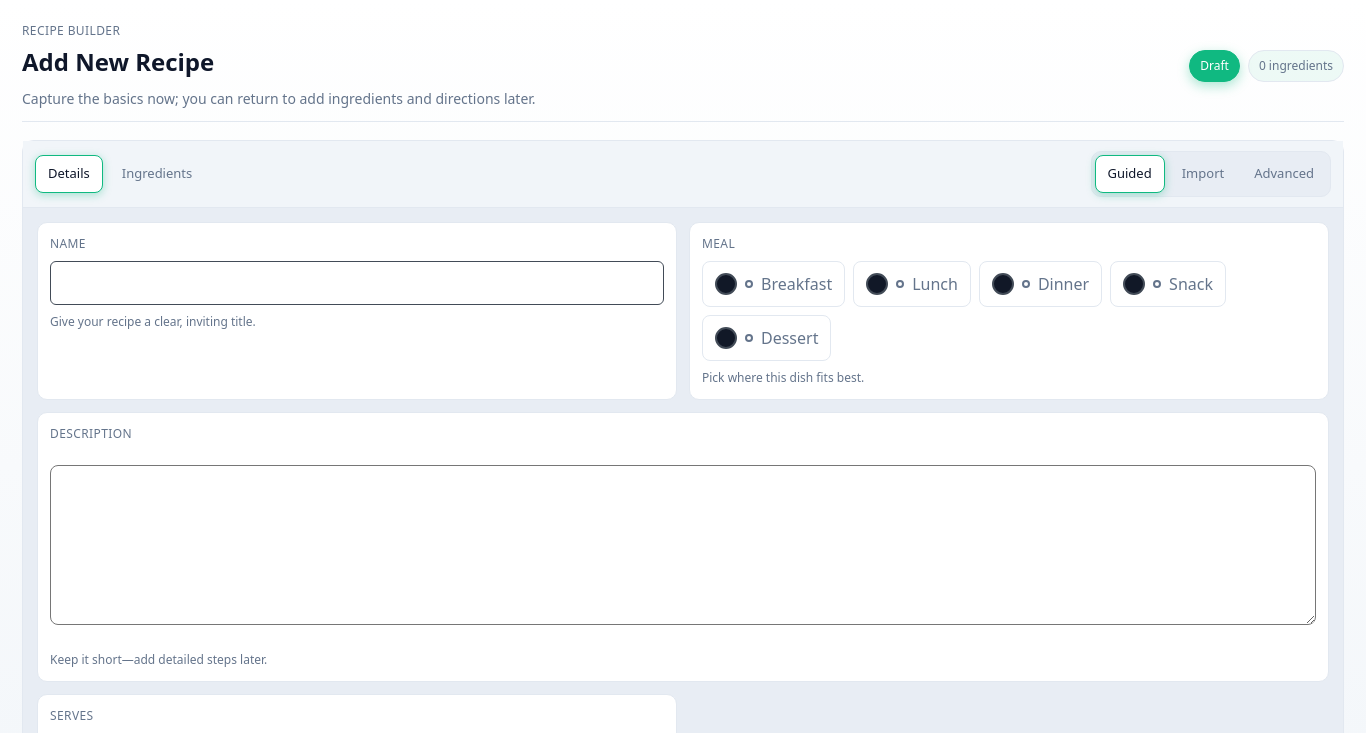
Test: Store Page - Recipe Creation › Ingredient Autocomplete › shows dropdown suggestions when clicking on ingredient name input
Click the button with aria-label "ingredients tab".
click(157, 173)  # box [122,164,192,182]
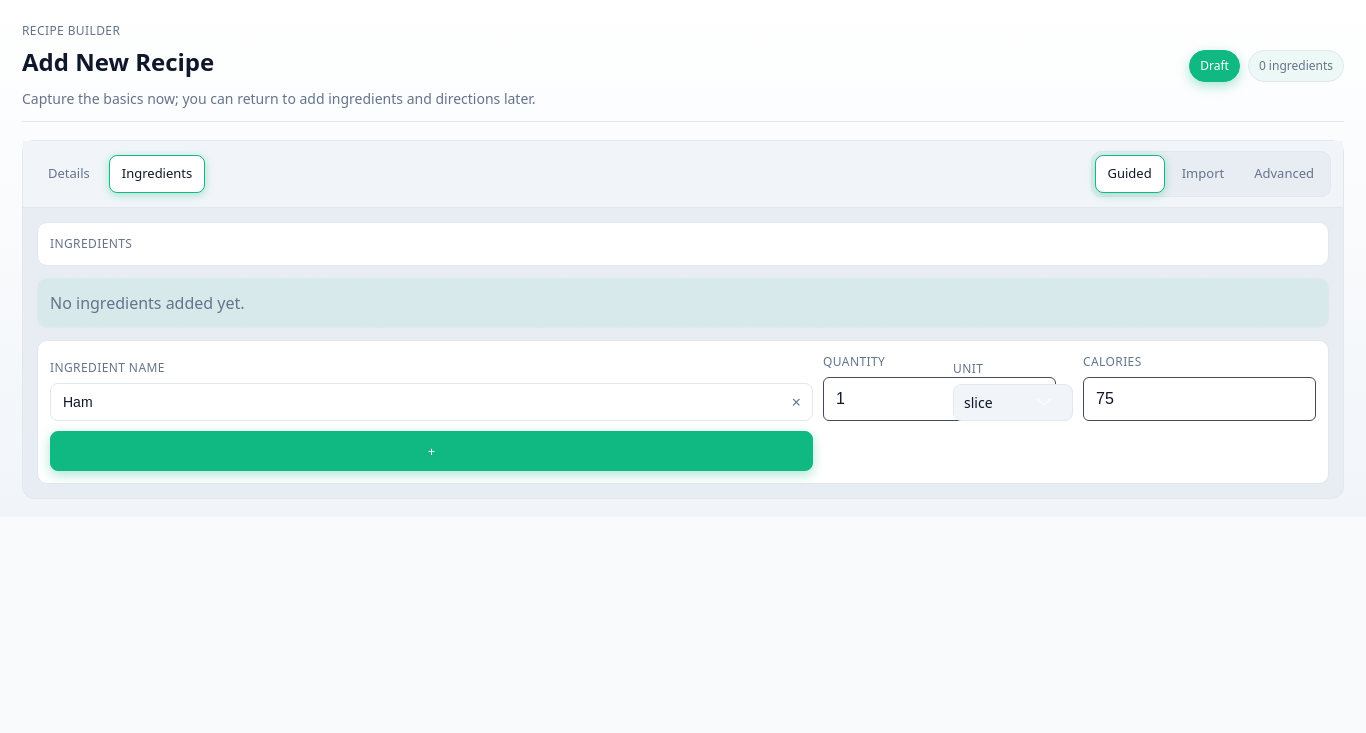
Click the dropdown with placeholder "Select food".
click(432, 402)  # box [50,382,813,420]
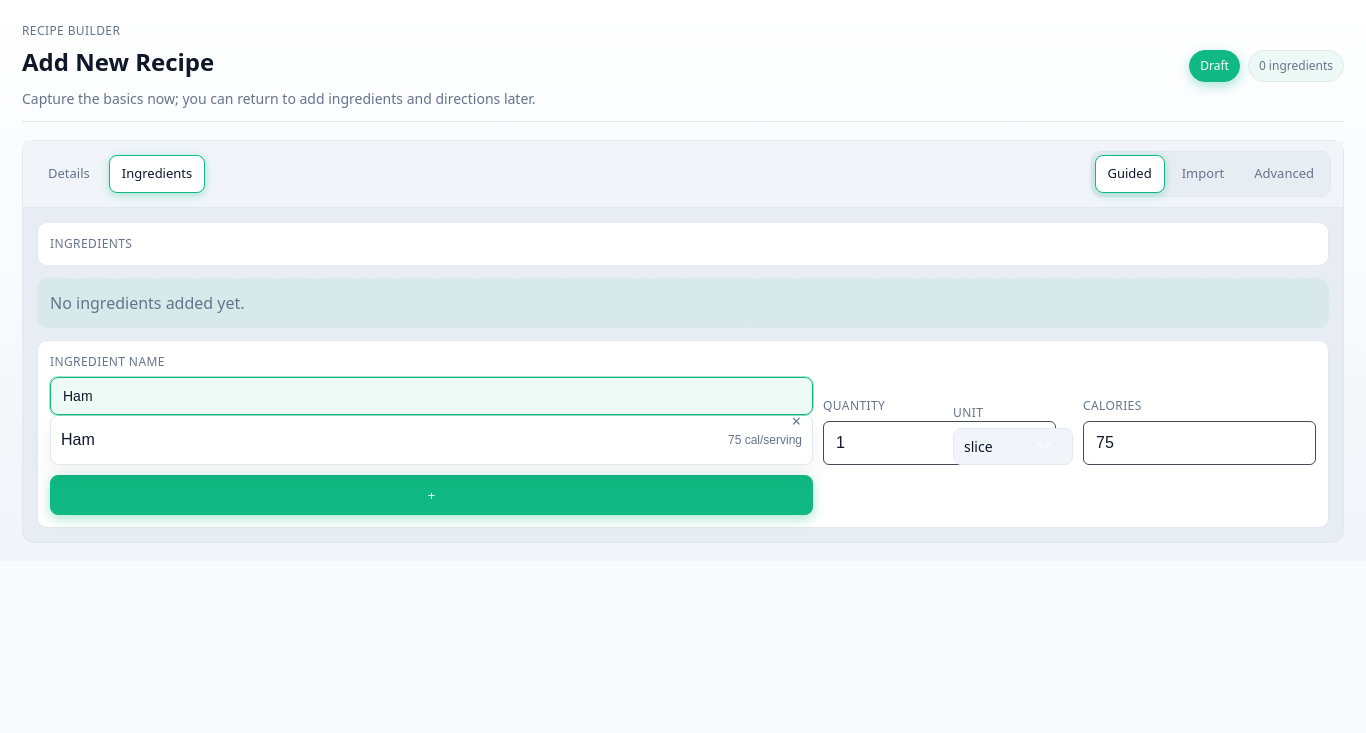
Result: the list is shown at [61,430,802,448]
